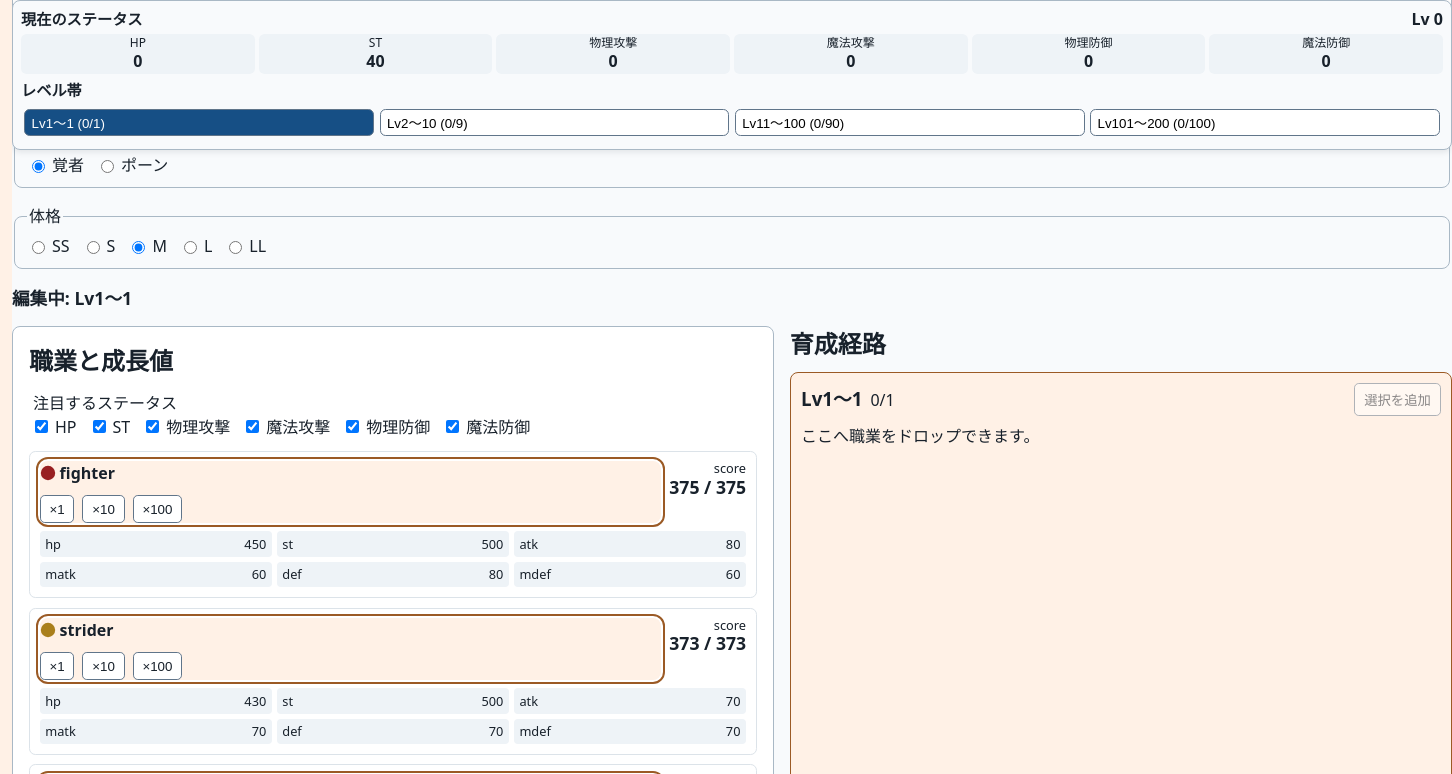
Test: 育成経路と体格の変更を現在のステータスへ反映する
(page scrolled)
Check: the text with test id "current-st" reads "40", box [366,50,385,72]
Click the button named "fighter 1Lvをドラッグまたは選択". click: click(57, 509)
box: [40,495,74,523]
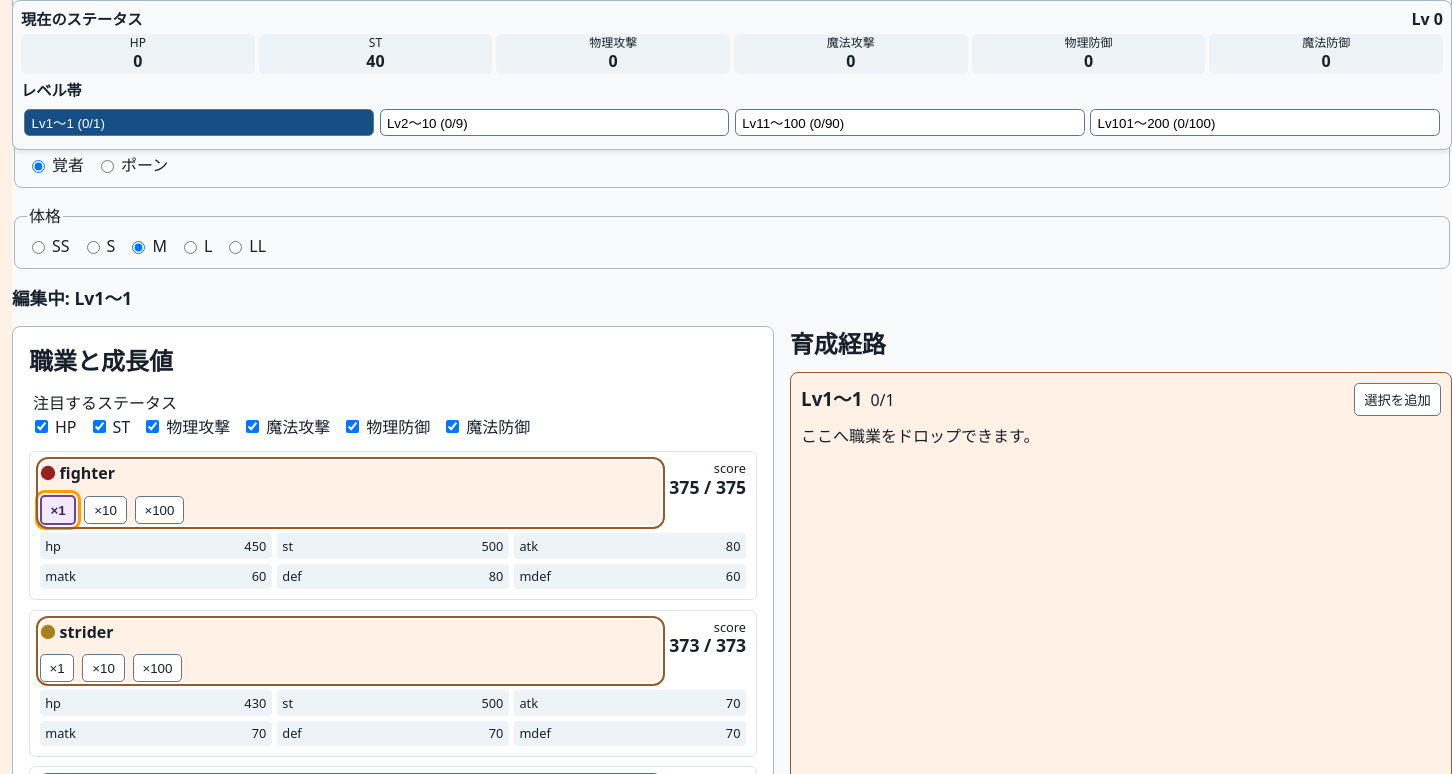
Click the button "選択を追加". click: click(1398, 400)
box: [1354,383,1441,416]
(page scrolled)
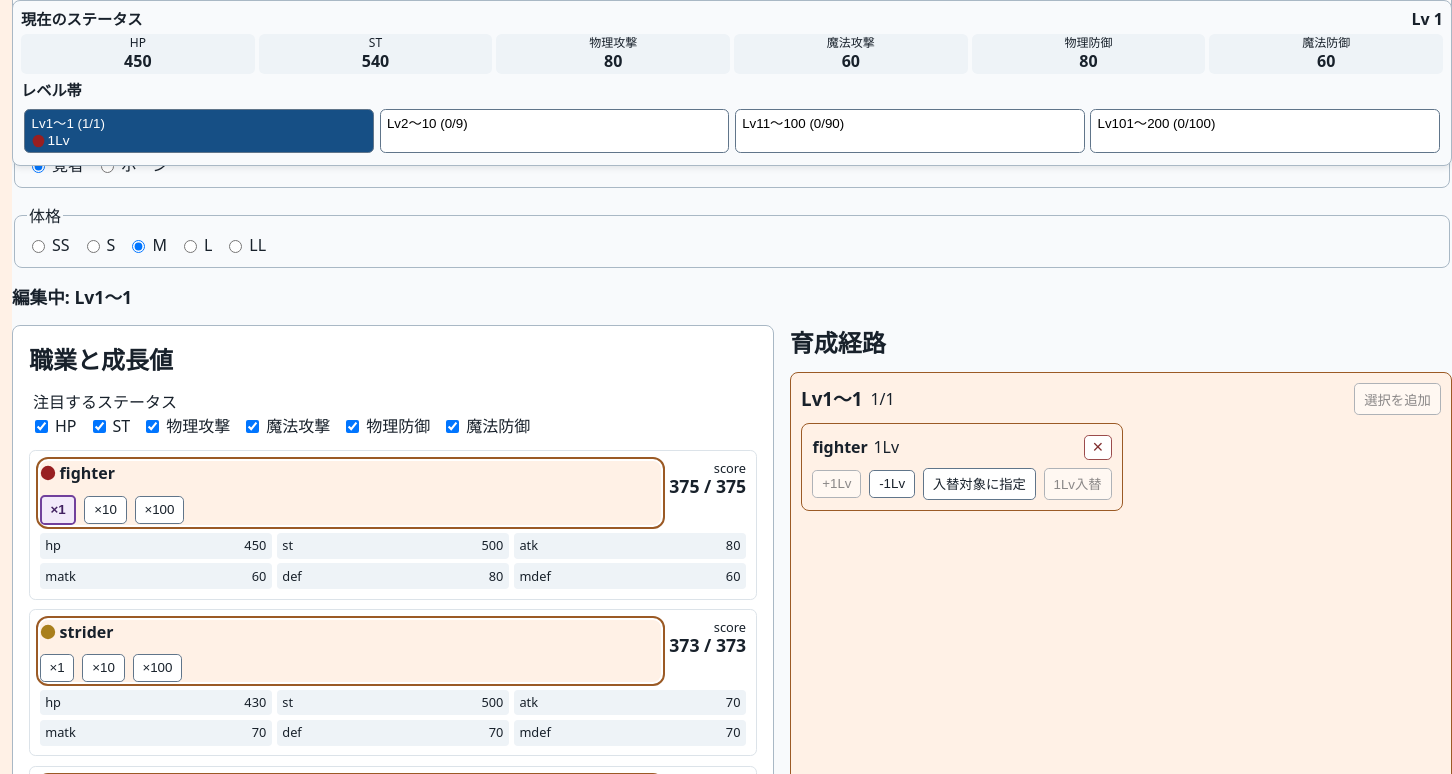
Check: the text "Lv 1" is shown, box [1412,9,1443,29]
Check: the text with test id "current-hp" reads "450", box [124,50,152,72]
Check: the text with test id "current-st" reads "540", box [362,50,389,72]
Click the radio button labelled "L". click: click(190, 247)
box: [184,240,197,253]
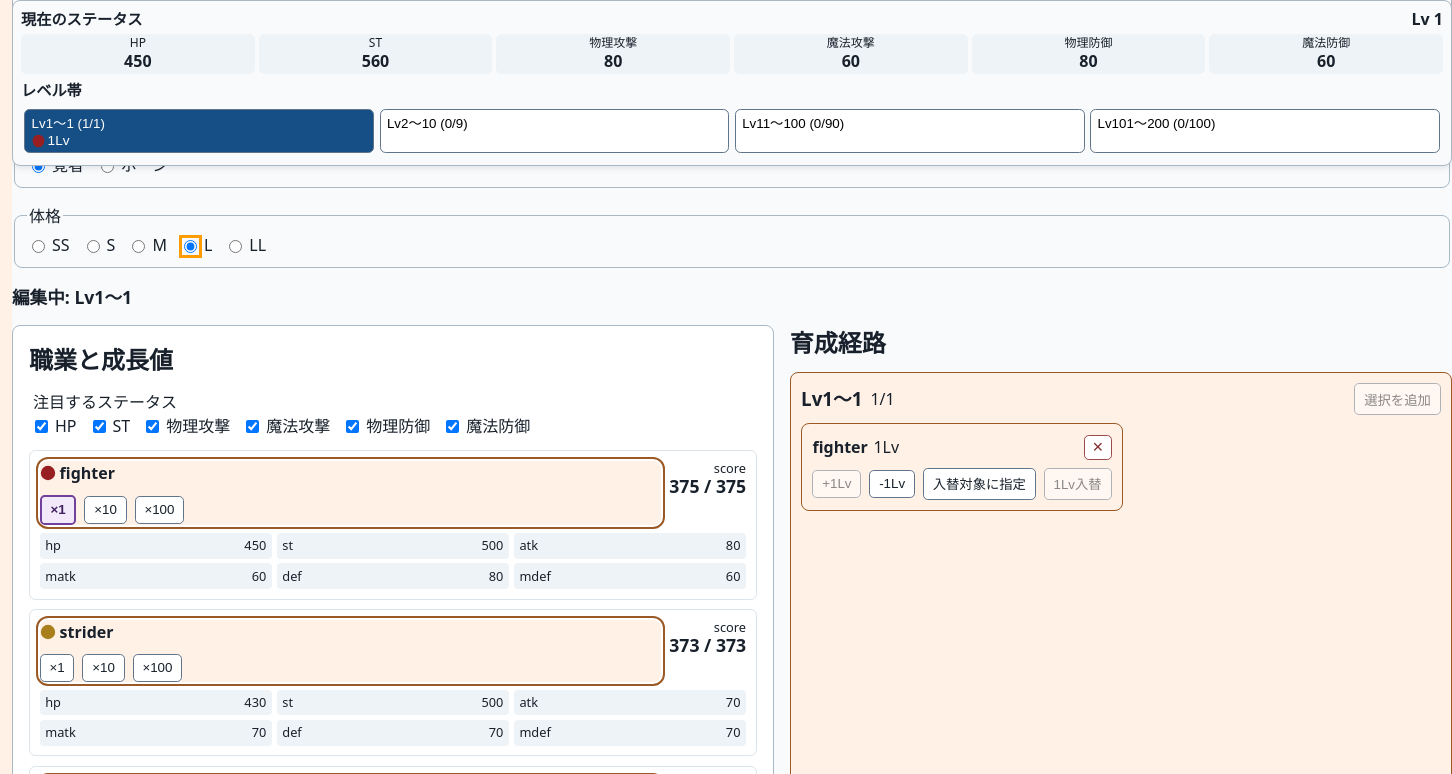
Check: the text with test id "current-st" reads "560", box [362,50,389,72]
